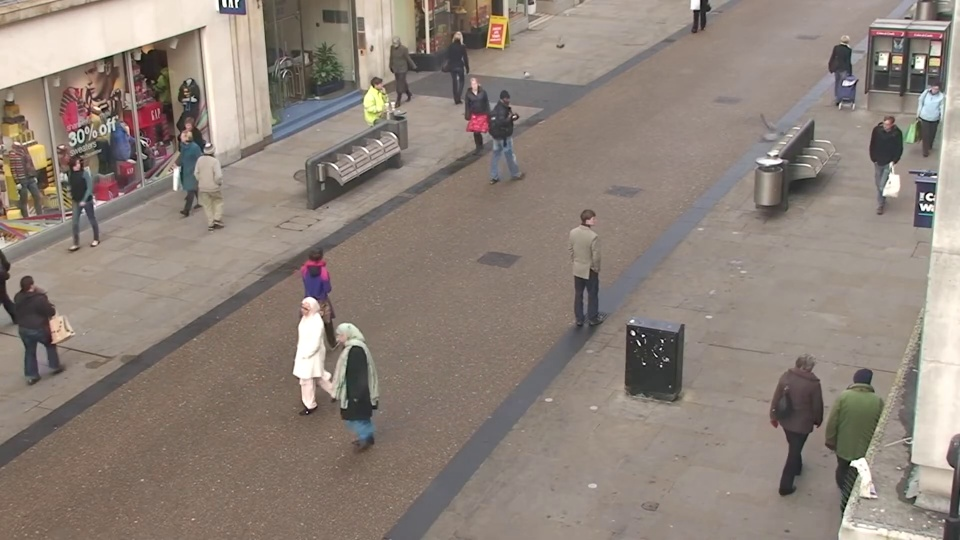pedestrian: (824, 351, 885, 512), (777, 336, 834, 491), (18, 264, 81, 397), (311, 318, 365, 465), (276, 290, 328, 431), (303, 236, 349, 363), (47, 158, 97, 263), (568, 204, 606, 325), (861, 114, 903, 212), (906, 82, 950, 173), (199, 137, 239, 236), (163, 129, 203, 226), (168, 113, 206, 206), (497, 89, 527, 177), (456, 78, 486, 163), (827, 30, 860, 107), (363, 74, 393, 157), (378, 34, 405, 106), (451, 28, 476, 99)
